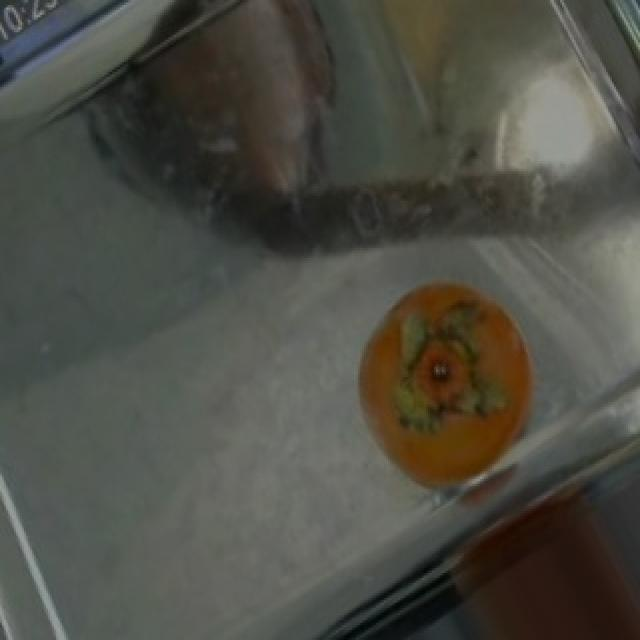Fruit: (330, 263, 564, 513)
